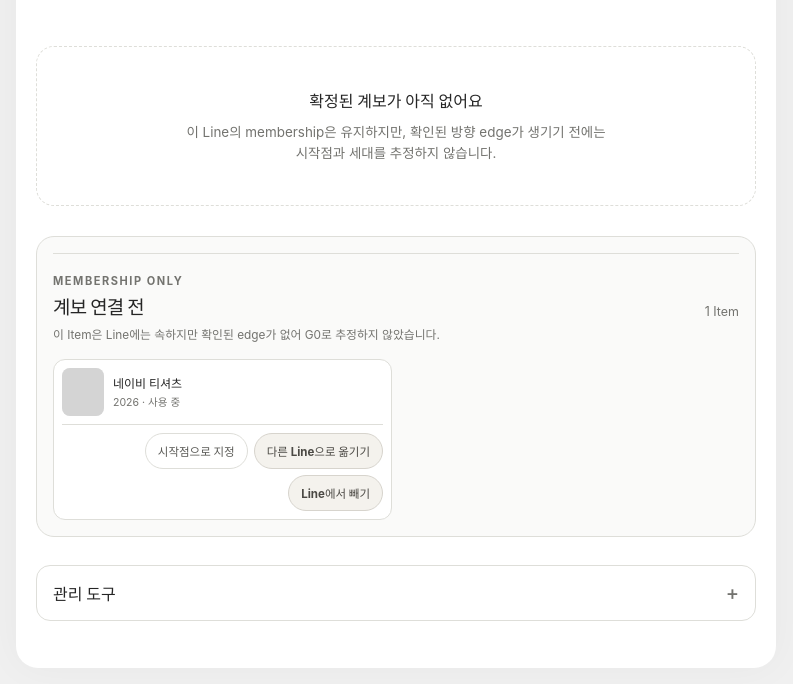
Test case: ReplacementLineagePage › hides Line details and exposes only the management buttons when opened
(page scrolled)
expect the button "이름 수정" is not shown: met
Click the heading "관리 도구" at [84, 594], box [53,584,116,604]
(page scrolled)
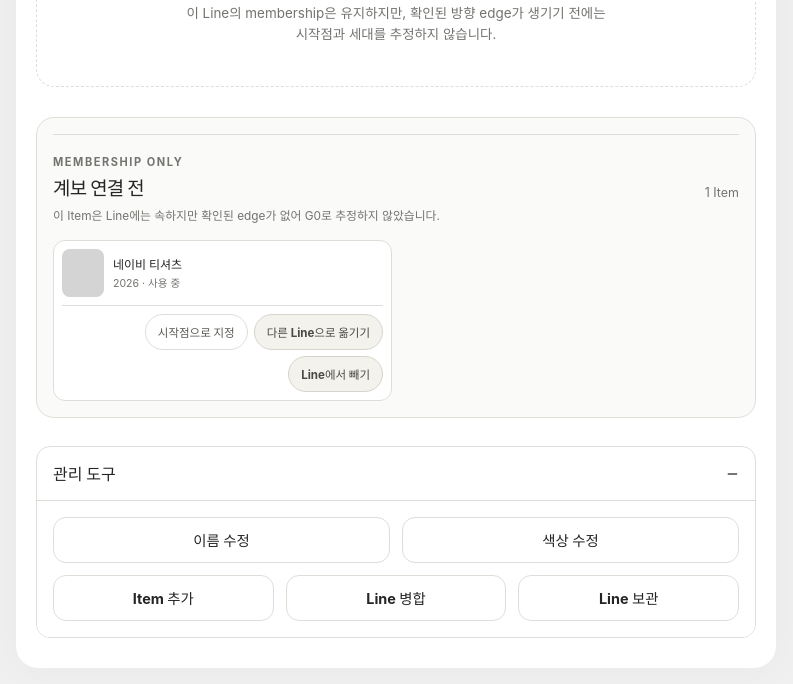
expect the button "이름 수정" is shown: met, box [53,517,390,563]
expect the button "색상 수정" is shown: met, box [402,517,739,563]
expect the button "Item 추가" is shown: met, box [53,575,274,621]
